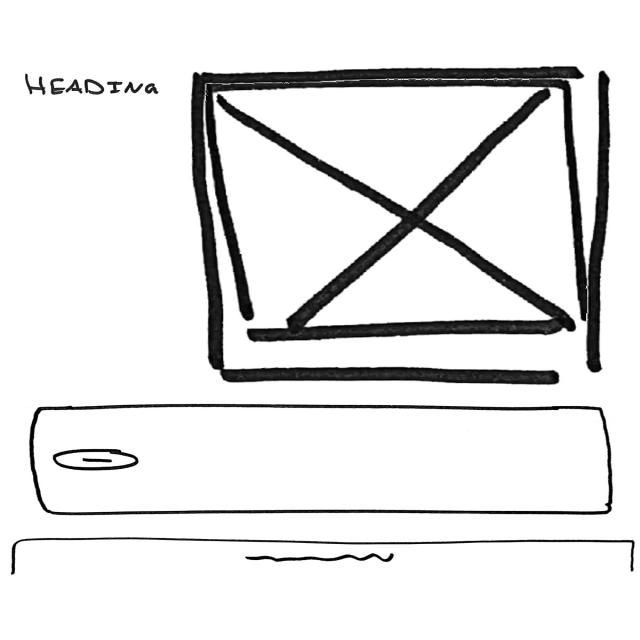container: (190, 71, 611, 387)
icon-button: (50, 450, 142, 473)
image: (209, 83, 584, 341)
label: (22, 75, 163, 99)
text: (247, 550, 401, 567)
